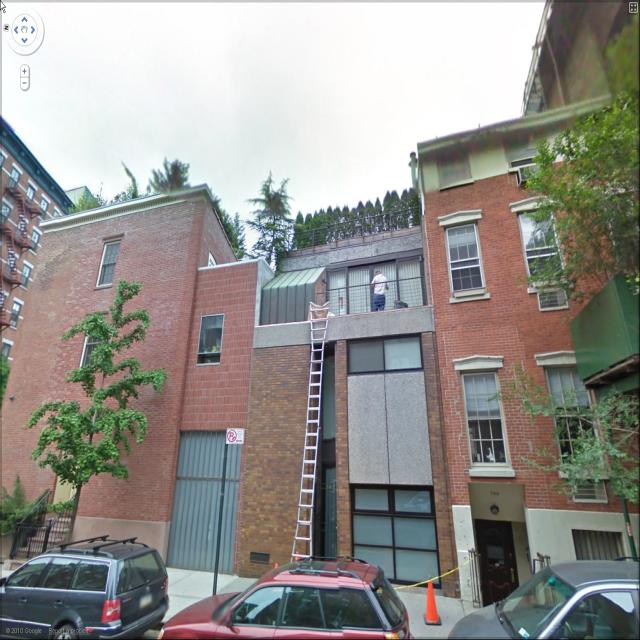b_1: (242, 209, 468, 573)
b_2: (418, 119, 640, 597), (8, 181, 224, 578)
